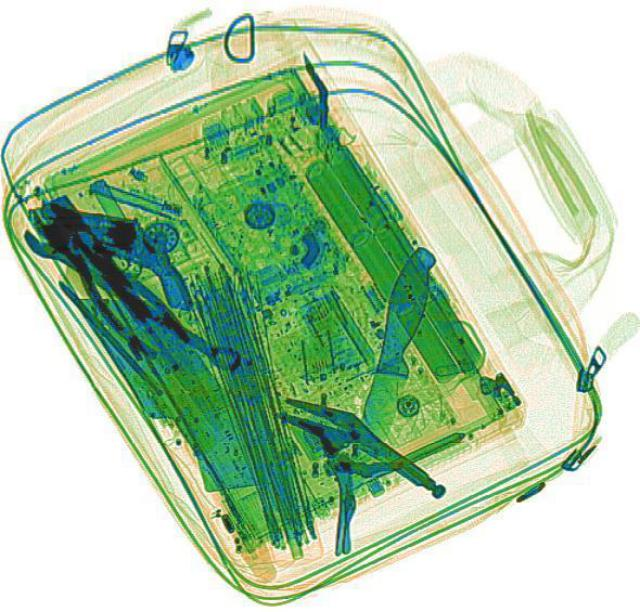Gun: (23, 200, 205, 308)
Knife: (46, 192, 234, 438), (332, 242, 443, 490)
Wrench: (14, 207, 252, 379)
